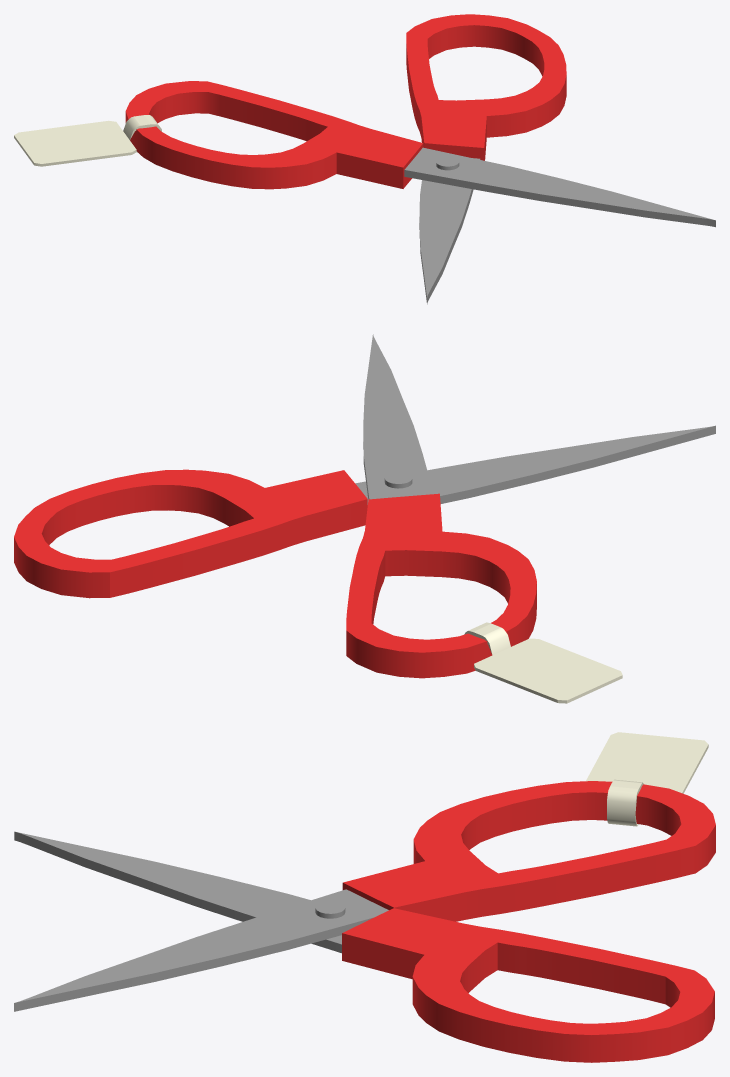
Rendered from scissors.obj.
3 renders of one model, top to bottom at view 1: azimuth 30°, elevation 25°; view 2: azimuth 150°, elevation 25°; view 3: azimuth 270°, elevation 25°, orthographic. The views are drawn at different scales.
Parts seen in each view (by area): view 1: 円柱.004; view 2: 円柱.004; view 3: 円柱.004.
Boxes of the visible parts, x1,y1,x2,y2 form: 円柱.004: (14,14,715,304); 円柱.004: (14,334,715,703); 円柱.004: (14,732,715,1062).
Size of the model in its own units: 6.38 by 0.3315 by 5.99.
3 materials, 3 textured.
